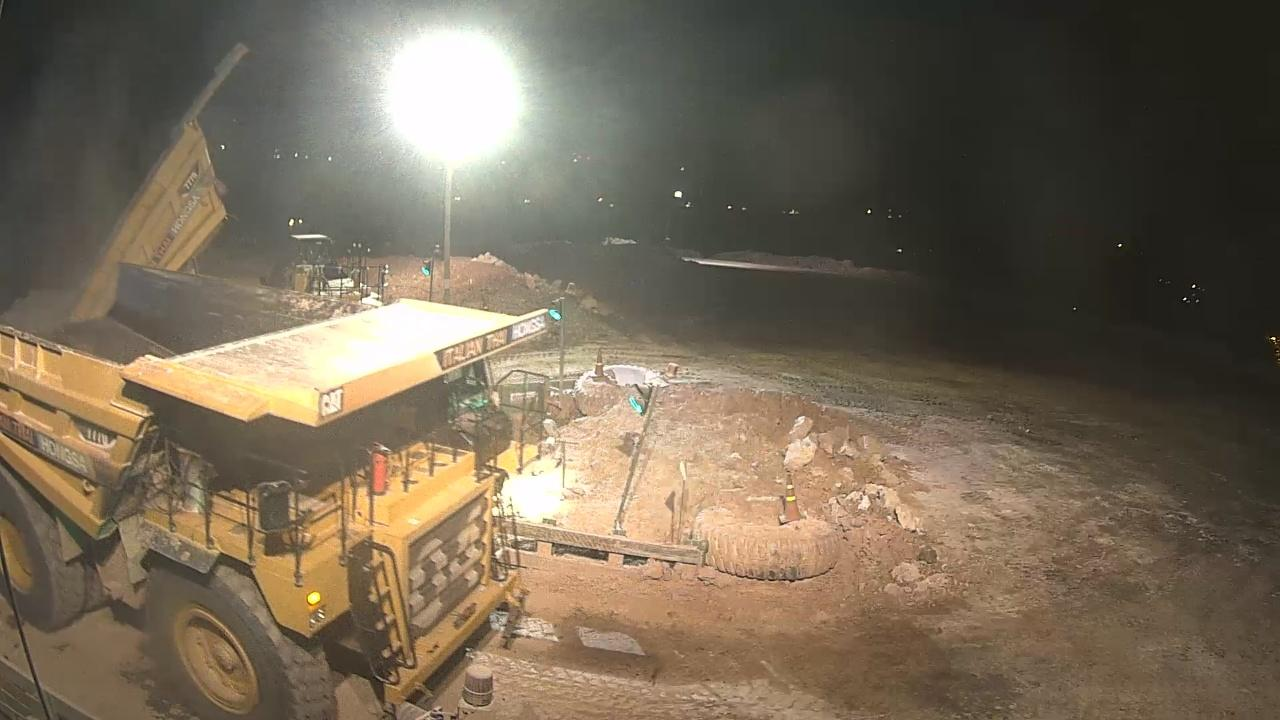dumping_soil: (44, 36, 274, 308)
front_number: (400, 503, 486, 627)
mining_truck: (0, 264, 588, 720)
